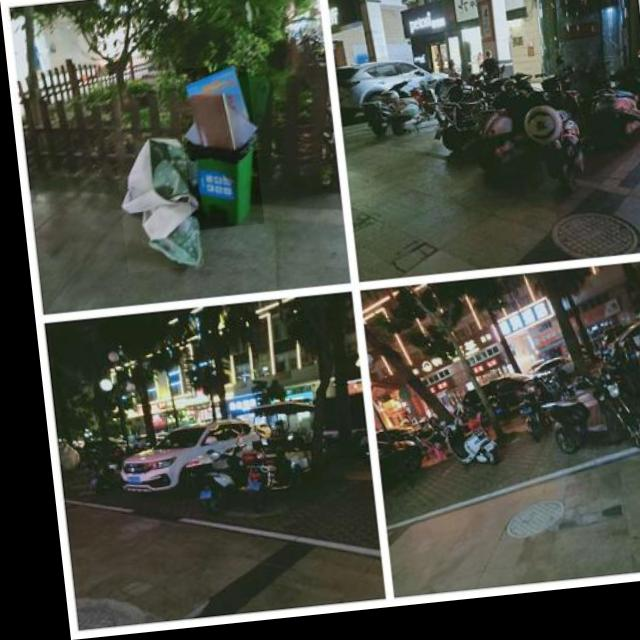garbage: (110, 138, 198, 275)
overflow: (174, 68, 259, 235)
